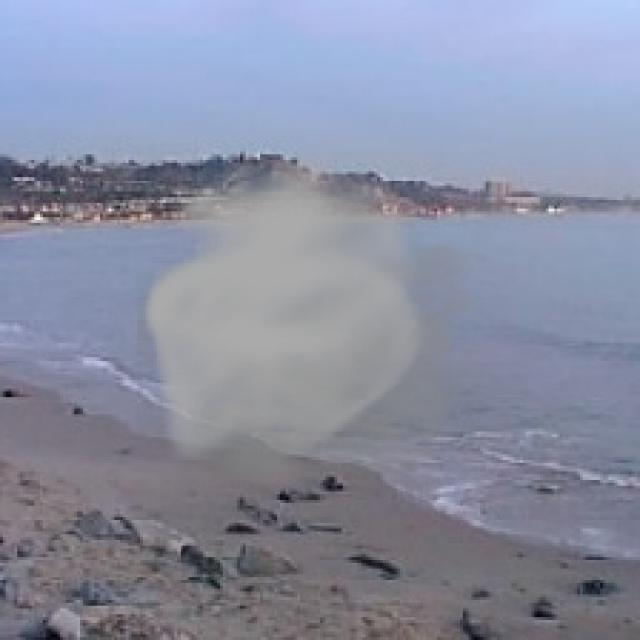smoke: (137, 154, 523, 506)
